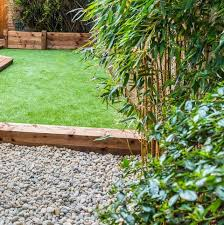bamboo: (80, 1, 224, 128), (140, 127, 222, 225)
